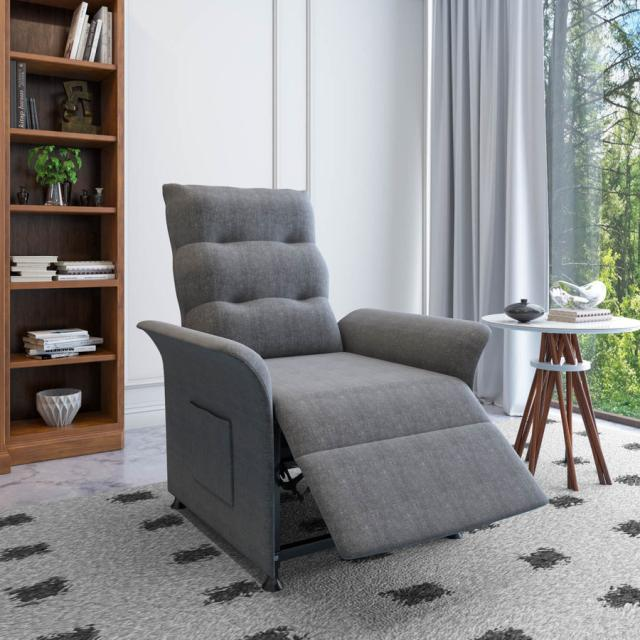sofa: (136, 181, 549, 592)
stool: (479, 259, 640, 495)
